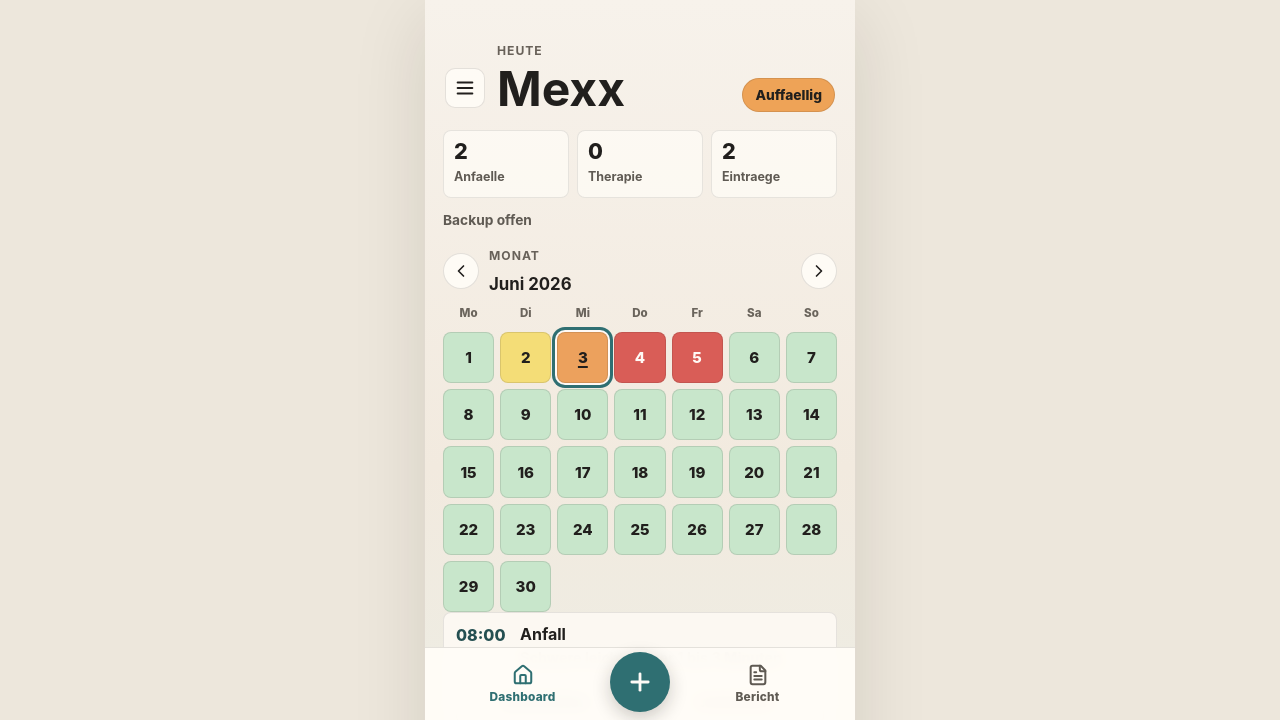
it: DashboardScreen › reveals quick-capture actions when the FAB is opened
The width and height of the screenshot is (1280, 720).
Click the button named "Erfassen oeffnen". click: (640,682)
box: [610,652,670,712]
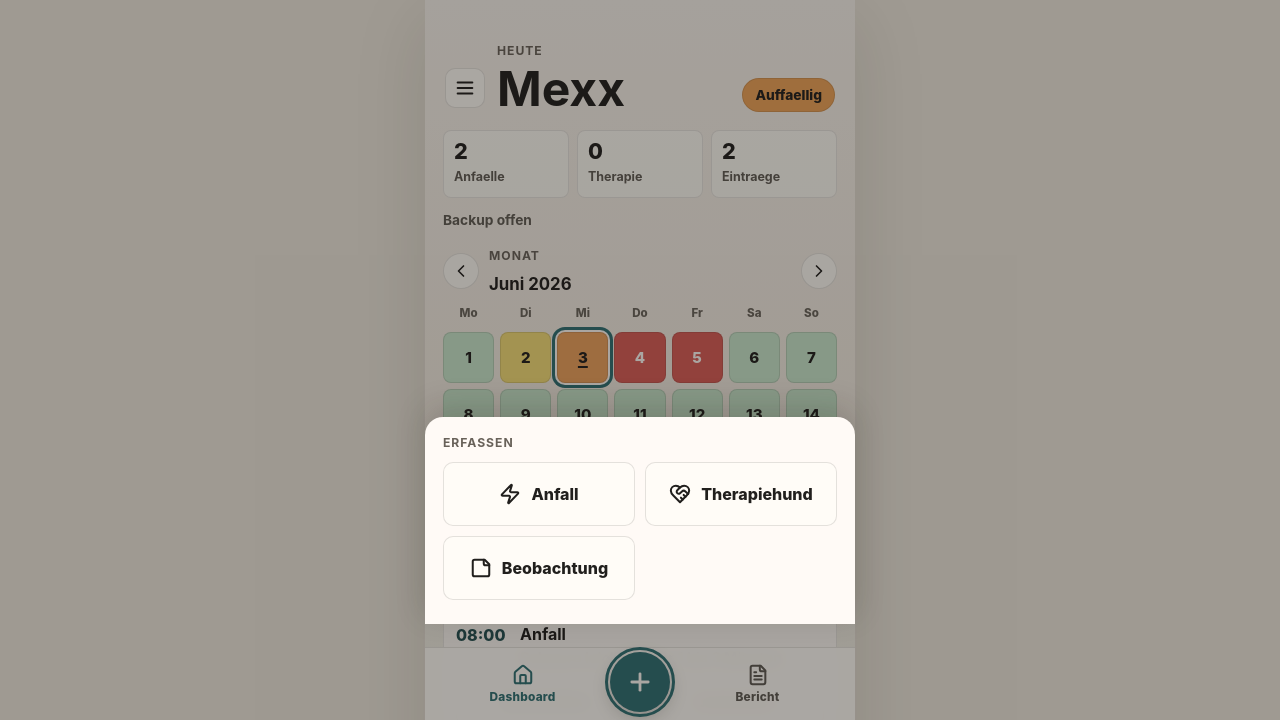
Now the button "Anfall" is shown, box [443,462,635,526]
Now the button "Therapiehund" is shown, box [645,462,837,526]
Now the button "Beobachtung" is shown, box [443,536,635,600]
